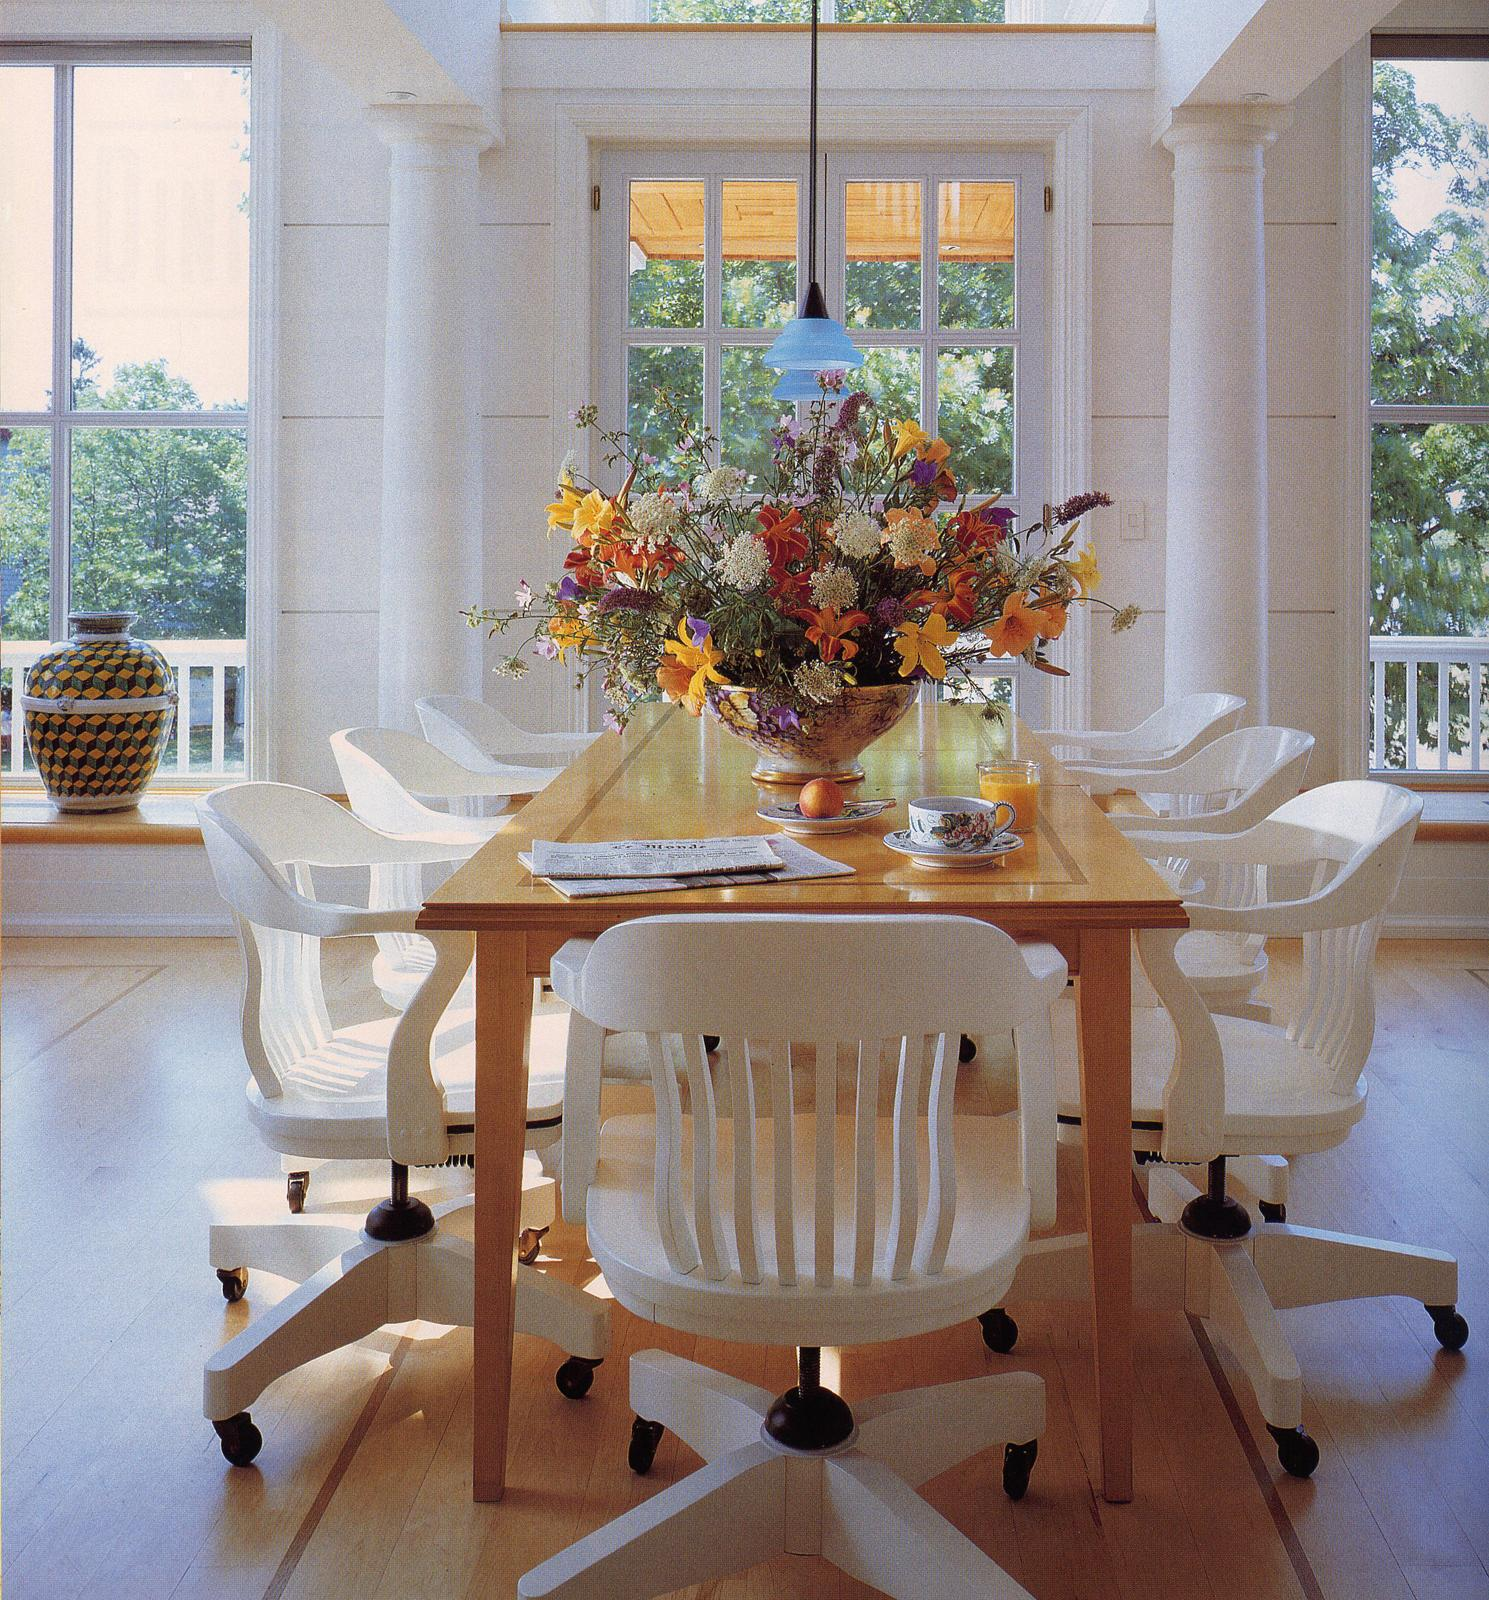Matera: (575, 434, 1012, 778)
Ventana: (13, 49, 257, 822), (1364, 69, 1488, 769)
